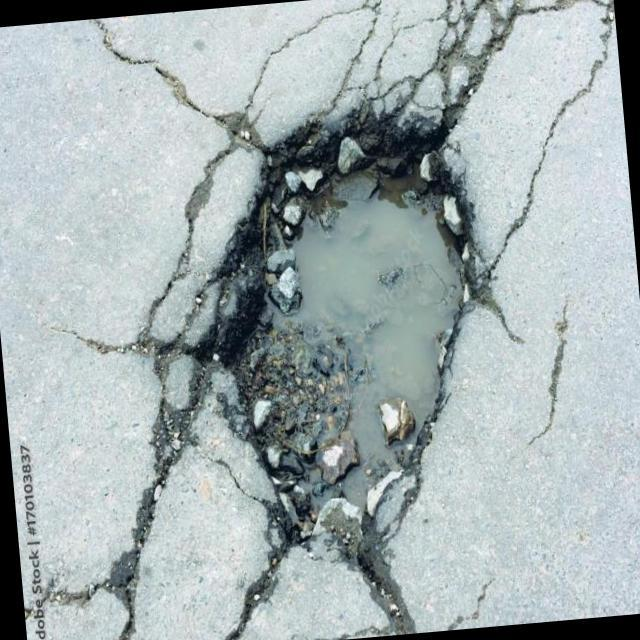Pothole: (191, 100, 487, 560)
